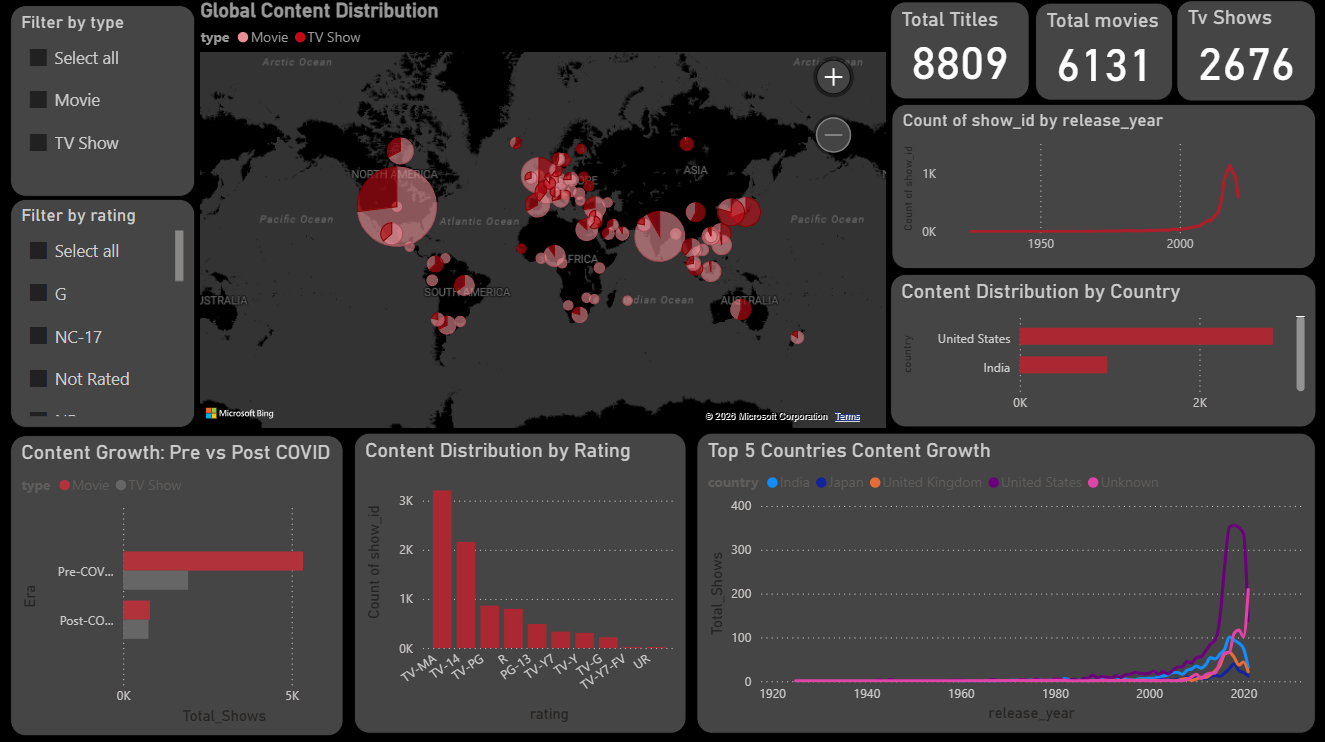

The dashboard page shown, as its layout file describes it:
{"tool":"powerbi","page":{"name":"Page 3","canvas":[1280,720],"ordinal":1},"visuals":[{"type":"lineChart","fields":{"Category":["netflix_clean.release_year"],"Y":["CountNonNull(netflix_clean.show_id)"]},"box":[861.6,101.4,409.6,158.9],"z":0},{"type":"card","title":"Total Titles","fields":{"Values":["CountNonNull(netflix_clean.show_id)"]},"box":[860.3,2.7,134.2,94.5],"z":1000},{"type":"card","title":"Tv Shows","fields":{"Values":["CountNonNull(netflix_clean.type)"]},"box":[1137,1.4,134.2,97.3],"z":2000},{"type":"clusteredBarChart","title":"Content Distribution by Country","fields":{"Category":["netflix_clean.country"],"Y":["CountNonNull(netflix_clean.show_id)"]},"box":[860.3,265.8,411,147.9],"z":3000},{"type":"clusteredColumnChart","title":"Content Distribution by Rating","fields":{"Category":["netflix_clean.rating"],"Y":["CountNonNull(netflix_clean.show_id)"]},"box":[342.5,419.2,320.5,290.4],"z":4000},{"type":"slicer","title":"Filter by type","fields":{"Values":["netflix_clean.type"]},"box":[11,5.5,178.1,184.9],"z":5000},{"type":"slicer","title":"Filter by rating","fields":{"Values":["netflix_clean.rating"]},"box":[11,193.2,178.1,220.5],"z":6000},{"type":"card","title":"Total movies","fields":{"Values":["CountNonNull(netflix_clean.show_id)"]},"box":[1000,4.1,132.9,94.5],"z":7000},{"type":"map","title":"Global Content Distribution","fields":{"Category":["netflix_clean.country"],"Size":["CountNonNull(netflix_clean.show_id)"],"Series":["netflix_clean.type"]},"box":[189,0,671.2,419.2],"z":8000},{"type":"clusteredBarChart","title":"Content Growth: Pre vs Post COVID","fields":{"Category":["netflix_clean.Era"],"Y":["netflix_clean.Total_Shows"],"Series":["netflix_clean.type"]},"box":[11,420.5,321.9,290],"z":9000},{"type":"lineChart","title":"Top 5 Countries Content Growth","fields":{"Category":["netflix_clean.release_year"],"Y":["netflix_clean.Total_Shows"],"Series":["netflix_clean.country"]},"box":[672.6,419.2,597.3,290],"z":10000}]}

Visuals, with their boxes in screenshot pixels (x1, y1, x2, y2), scaled from the page's 1280x720 canvas onto the 1325x742 screenshot:
lineChart - netflix_clean.release_year x CountNonNull(netflix_clean.show_id): left=892, top=104, right=1316, bottom=268
"Total Titles" card: left=891, top=3, right=1029, bottom=100
"Tv Shows" card: left=1177, top=1, right=1316, bottom=102
"Content Distribution by Country" clusteredBarChart: left=891, top=274, right=1316, bottom=426
"Content Distribution by Rating" clusteredColumnChart: left=355, top=432, right=686, bottom=731
"Filter by type" slicer: left=11, top=6, right=196, bottom=196
"Filter by rating" slicer: left=11, top=199, right=196, bottom=426
"Total movies" card: left=1035, top=4, right=1173, bottom=102
"Global Content Distribution" map: left=196, top=0, right=890, bottom=432
"Content Growth: Pre vs Post COVID" clusteredBarChart: left=11, top=433, right=345, bottom=732
"Top 5 Countries Content Growth" lineChart: left=696, top=432, right=1315, bottom=731
